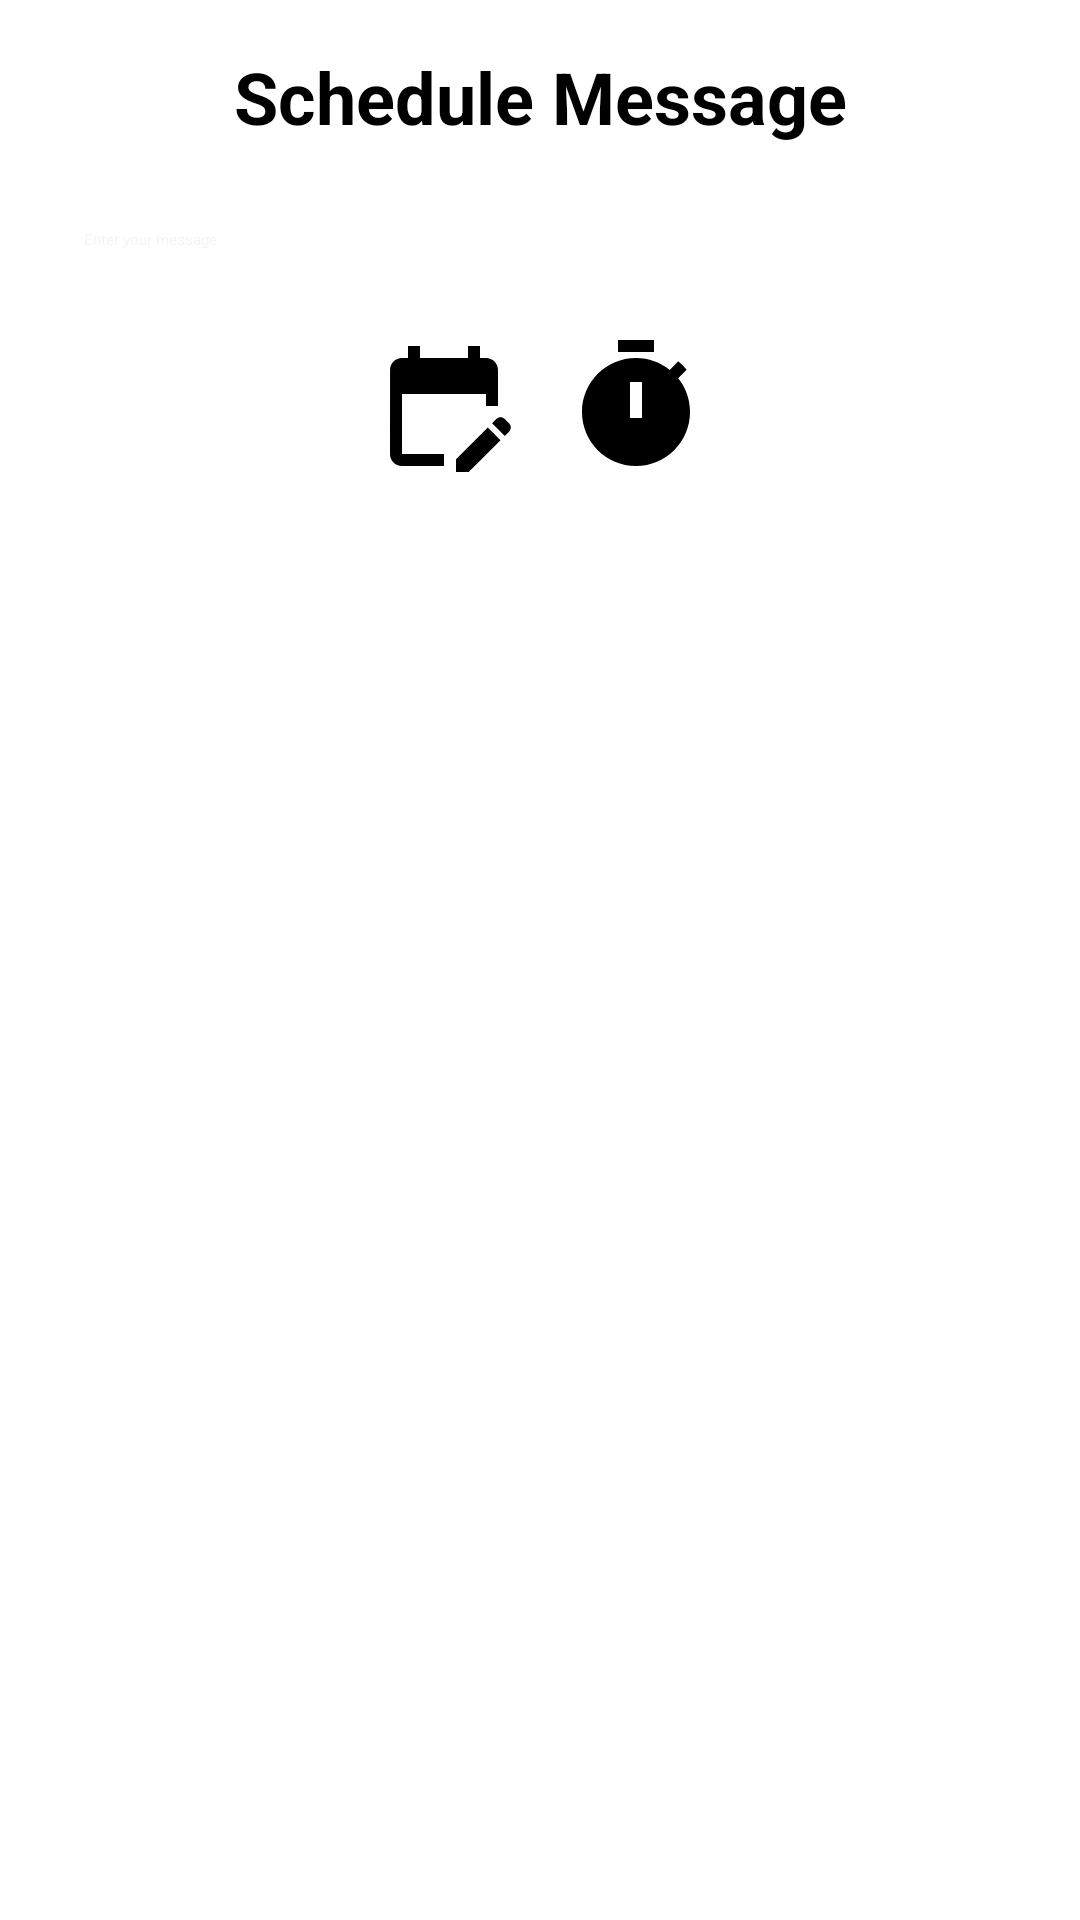

Icons on this 1080*1920 Android screen, each with its box as (x1, y1, x2, y2):
Pick a date: (390, 346, 511, 472)
Pick a time: (582, 340, 690, 466)
